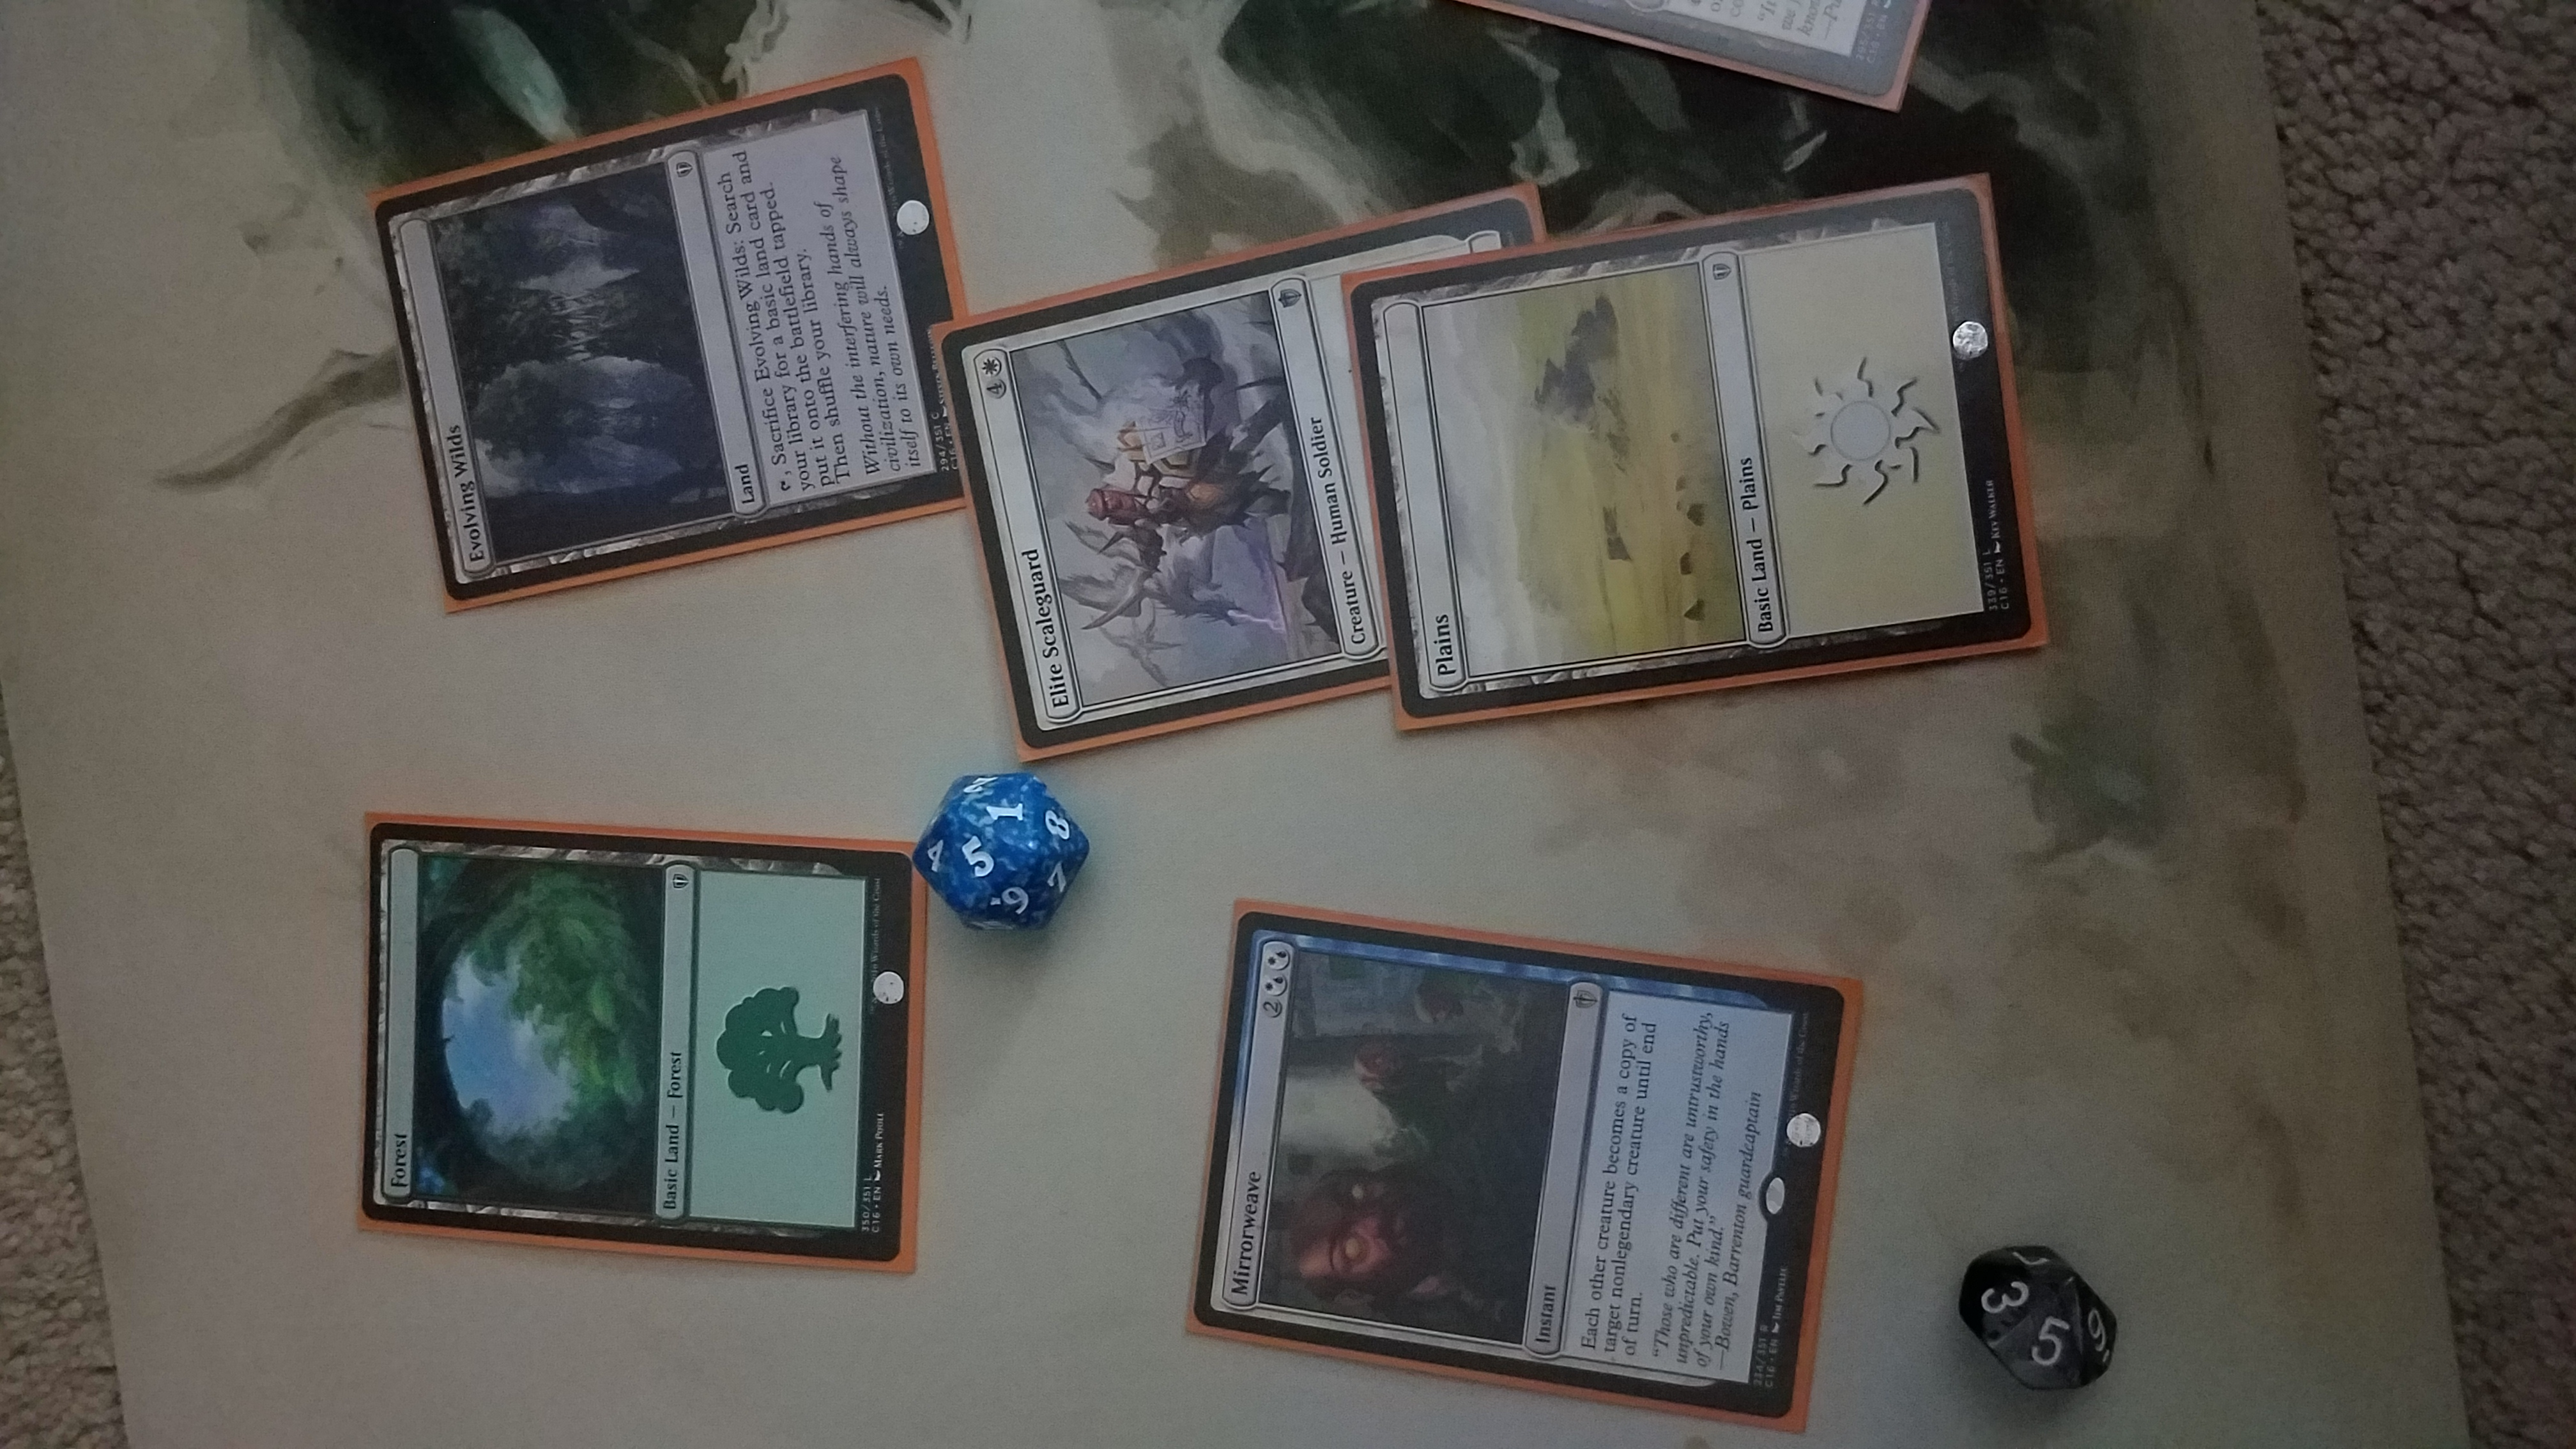Card: (1350, 177, 2045, 718), (934, 186, 1548, 747), (1201, 925, 1856, 1428), (375, 69, 961, 600), (354, 821, 943, 1274)
